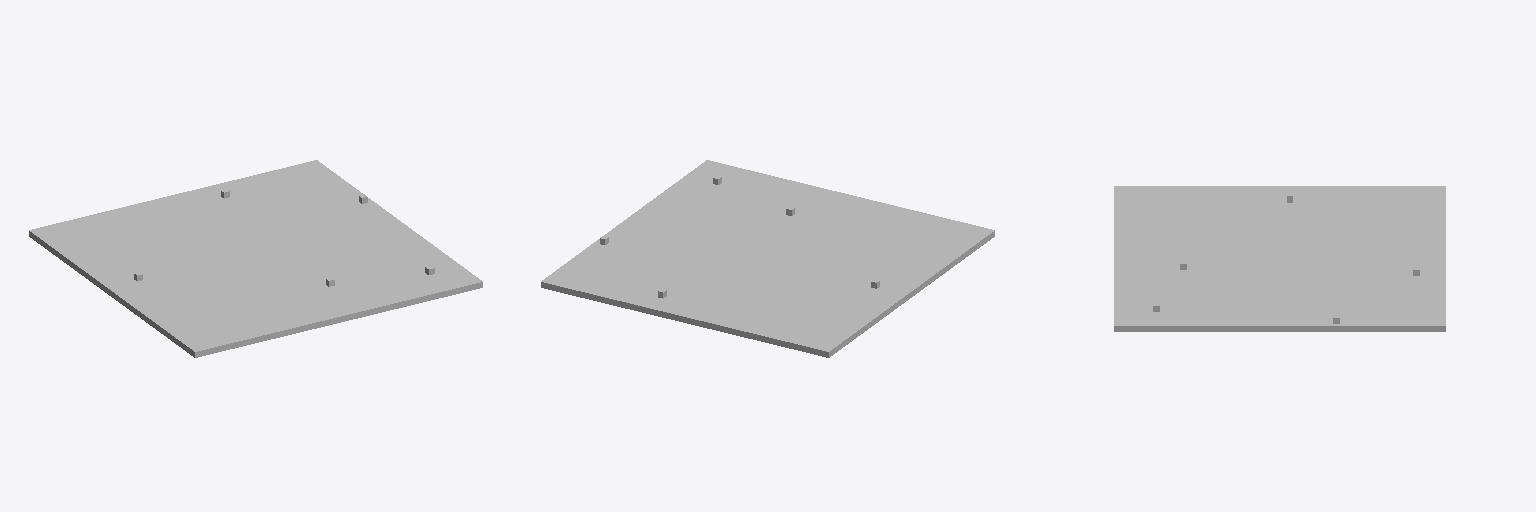
Rendered from sole H.obj.
The picture shows the model from 3 angles: view 1: azimuth 30°, elevation 25°; view 2: azimuth 150°, elevation 25°; view 3: azimuth 270°, elevation 25°; orthographic projection.
Parts seen in each view (by area): view 1: object 1; view 2: object 1; view 3: object 1.
Part boxes in pixels (left/top/right/bottom): object 1: left=29, top=160, right=482, bottom=357; object 1: left=541, top=160, right=994, bottom=357; object 1: left=1114, top=186, right=1445, bottom=331.
Bounding box in the file's own units: 5 × 0.2 × 5.